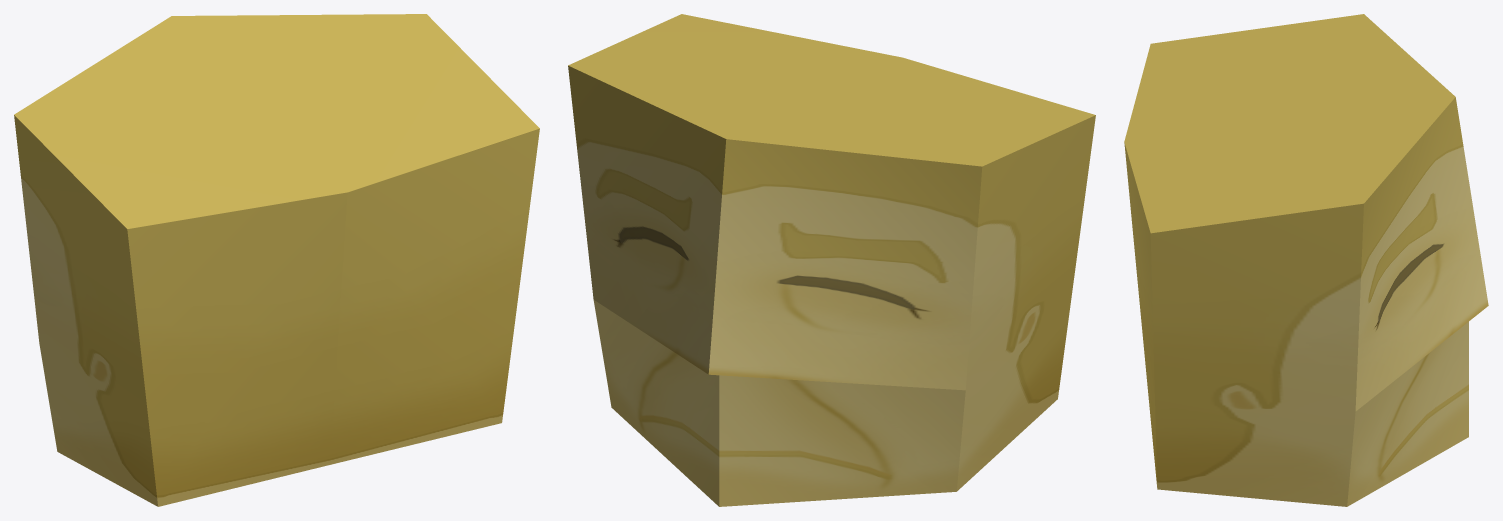
File: goldbricks.glb
3 renders of one model, left to right at view 1: azimuth 30°, elevation 25°; view 2: azimuth 150°, elevation 25°; view 3: azimuth 270°, elevation 25°, orthographic. The views are drawn at different scales.
Visible parts, largest first — view 1: goldbricks.001; view 2: goldbricks.001; view 3: goldbricks.001.
Boxes of the visible parts, bbox=[...] form: goldbricks.001: bbox=[14, 14, 539, 506]; goldbricks.001: bbox=[568, 14, 1095, 506]; goldbricks.001: bbox=[1124, 14, 1488, 506].
Bounding box in the file's own units: 1.36 × 1.14 × 1.11.
1 material, 1 textured.
